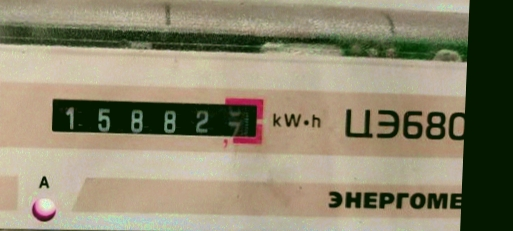1: (61, 102, 76, 130)
2: (192, 106, 209, 135)
5: (93, 104, 112, 132)
7: (224, 118, 241, 135)
8: (126, 106, 143, 134), (160, 106, 176, 135)
screen: (35, 81, 273, 152)
